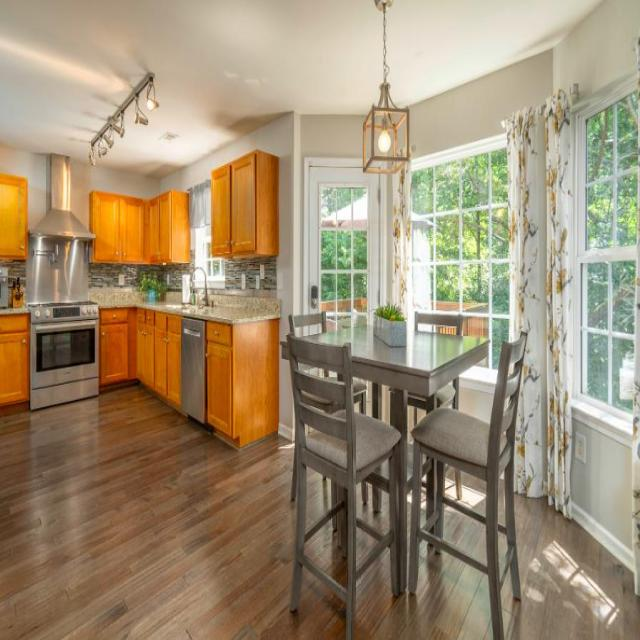dishwasher: (179, 312, 206, 426)
